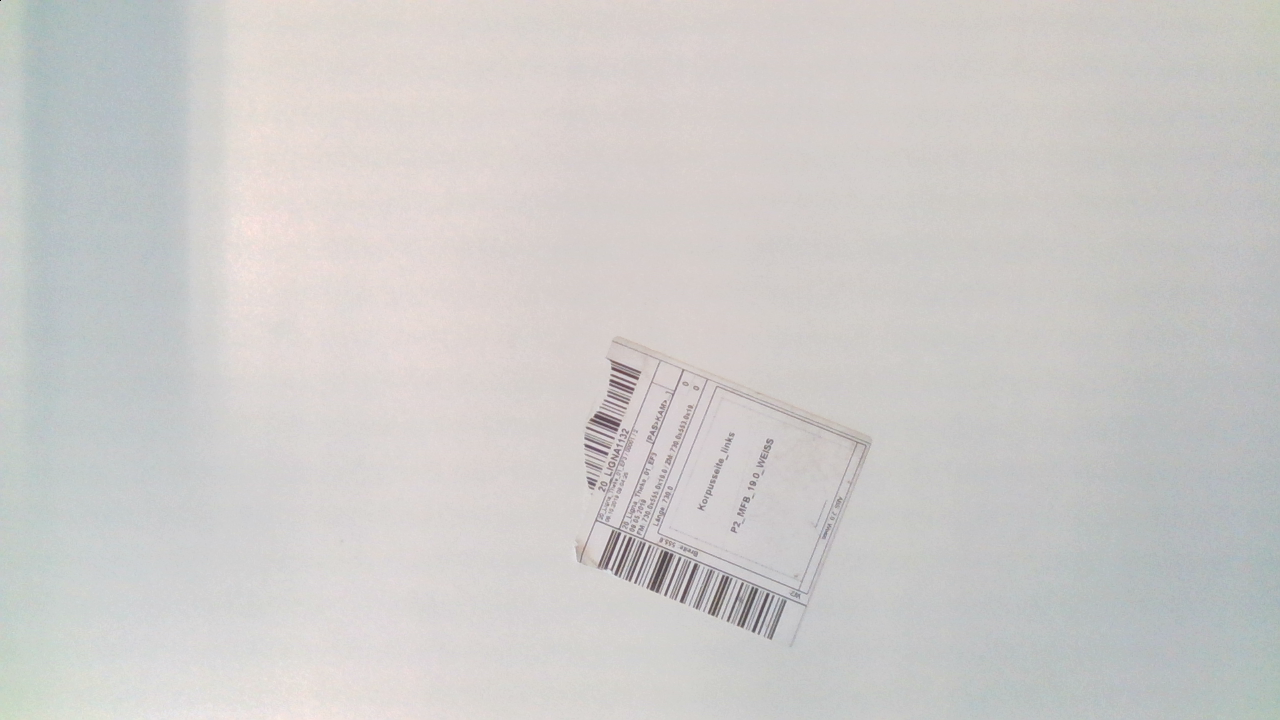barcode: (568, 330, 874, 644)
